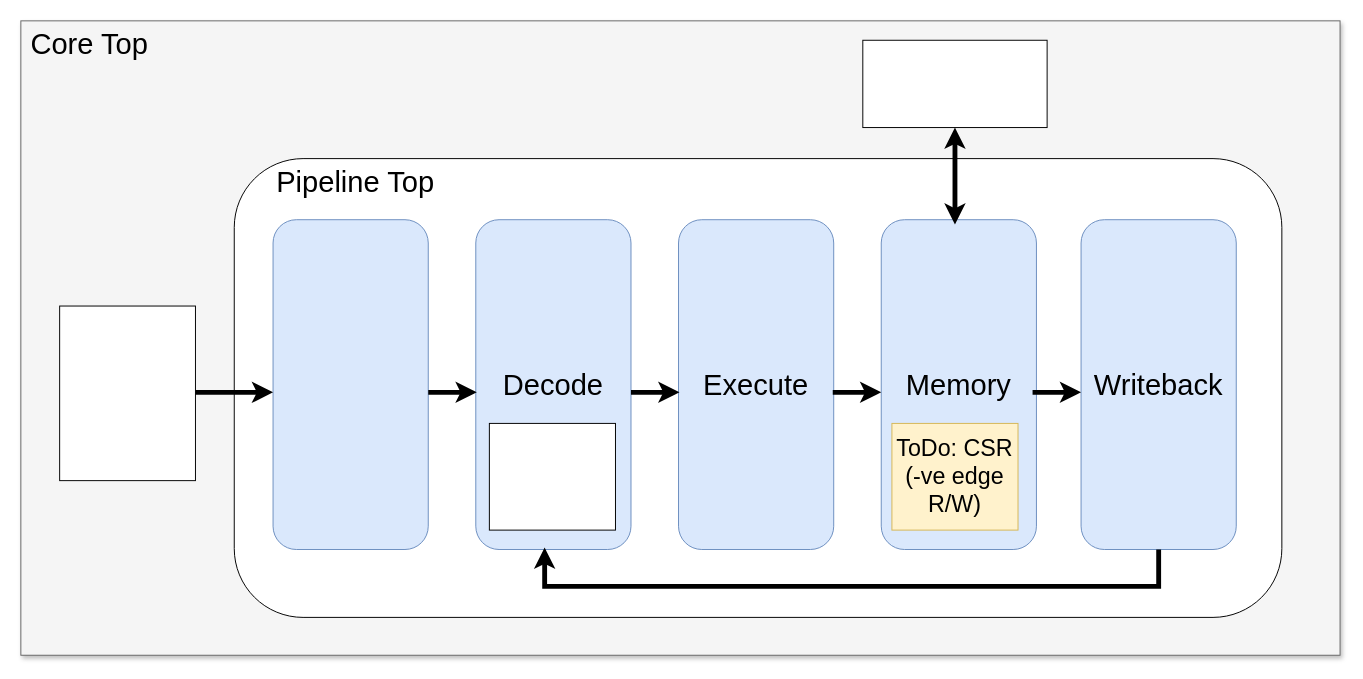
This 1363x679 diagram has some shape labels left out. Here are the shapes that lost their labels. From the top down, the centre of each, then its label:
At point 954,83: "DMem (-ve edge R/W)".
At point 127,393: "IMem (+ve edge RO)".
At point 350,384: "Fetch".
At point 551,476: "RegFile (+ve edge W)".
